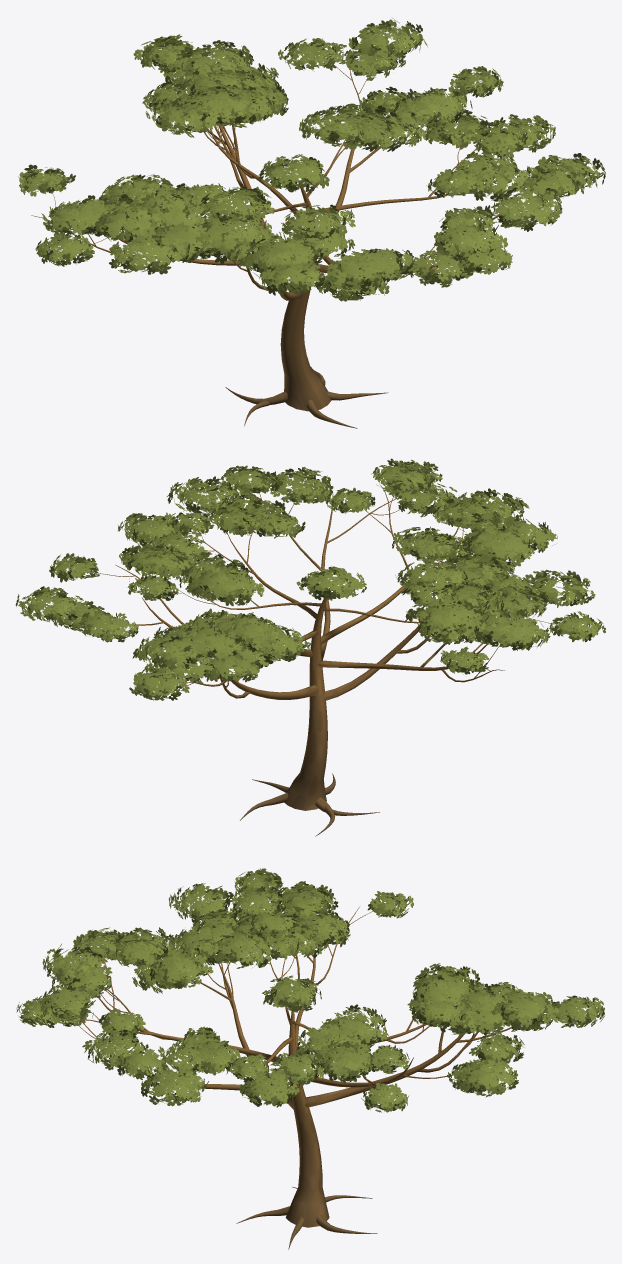
The model's file is tree.gltf.
3 renders of one model, top to bottom at view 1: azimuth 30°, elevation 25°; view 2: azimuth 150°, elevation 25°; view 3: azimuth 270°, elevation 25°, orthographic. The views are drawn at different scales.
Parts seen in each view (by area): view 1: Tree_LOD0; view 2: Tree_LOD0; view 3: Tree_LOD0.
Part boxes in pixels (x1,y1,x2,y2): Tree_LOD0: (18,18,605,428); Tree_LOD0: (15,458,605,836); Tree_LOD0: (16,868,604,1249).
Bounding box in the file's own units: 30.84 × 14.71 × 32.9.
Materials: 2 (2 with a texture image).
